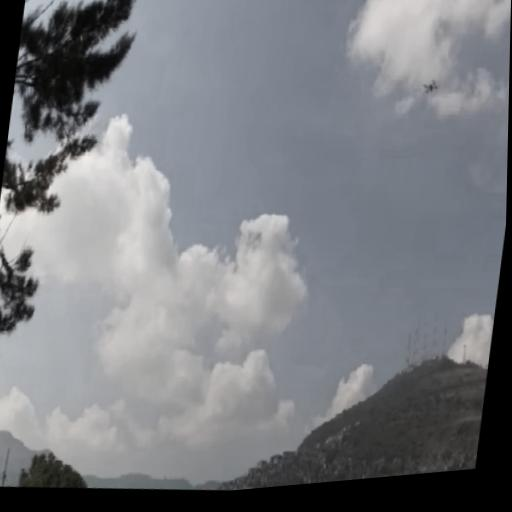drones: (417, 73, 443, 104)
